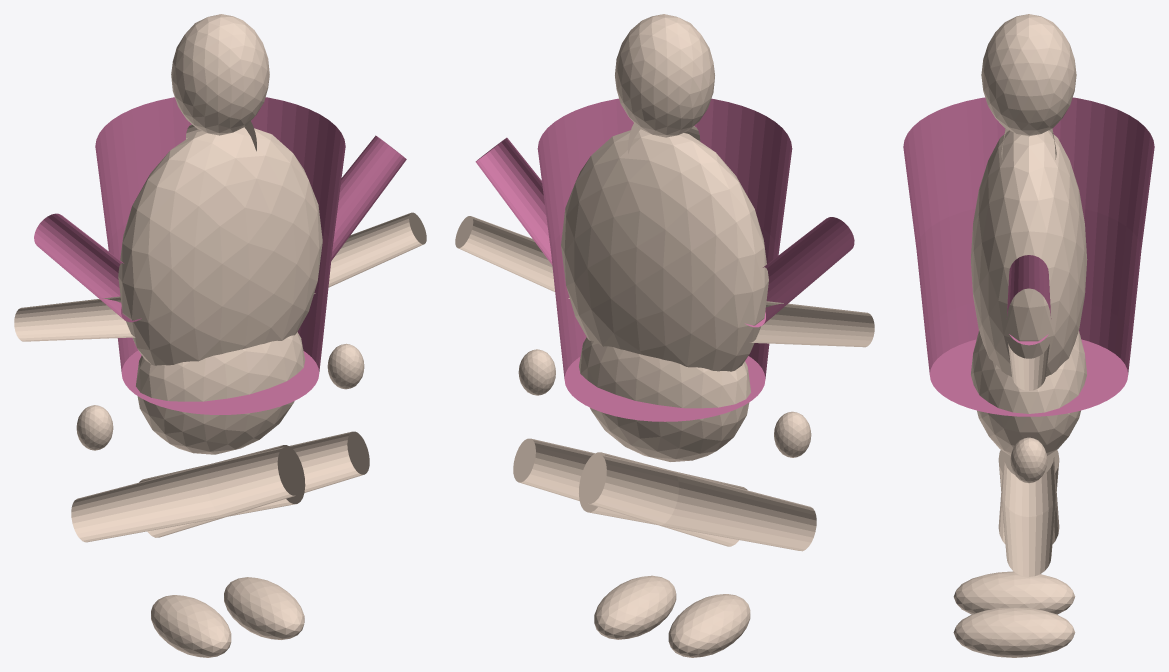
File: masculino-polo.glb
3 views of the same model, side by side, from view 1: azimuth 30°, elevation 25°; view 2: azimuth 150°, elevation 25°; view 3: azimuth 270°, elevation 25° (orthographic).
Visible parts, largest first — view 1: Avatar0, Prenda, Avatar1, Avatar3, Avatar4, Avatar8, Avatar6, Avatar9, Avatar5, Avatar10, Avatar7, Avatar11; view 2: Avatar0, Prenda, Avatar1, Avatar3, Avatar4, Avatar8, Avatar6, Avatar5, Avatar9, Avatar10, Avatar7, Avatar11; view 3: Prenda, Avatar0, Avatar3, Avatar1, Avatar9, Avatar5, Avatar8, Avatar4, Avatar11, Avatar10.
Boxes of the visible parts, bbox=[...] form: Avatar0: bbox=[118, 127, 322, 365]; Prenda: bbox=[34, 97, 406, 414]; Avatar1: bbox=[136, 332, 305, 454]; Avatar3: bbox=[171, 14, 269, 135]; Avatar4: bbox=[71, 445, 305, 542]; Avatar8: bbox=[139, 431, 369, 537]; Avatar6: bbox=[14, 296, 135, 341]; Avatar9: bbox=[224, 577, 304, 639]; Avatar5: bbox=[151, 595, 231, 657]; Avatar10: bbox=[314, 212, 426, 293]; Avatar7: bbox=[76, 405, 113, 450]; Avatar11: bbox=[327, 343, 364, 389]; Avatar0: bbox=[561, 129, 768, 371]; Prenda: bbox=[475, 98, 854, 421]; Avatar1: bbox=[579, 337, 750, 461]; Avatar3: bbox=[615, 14, 714, 137]; Avatar4: bbox=[579, 452, 816, 551]; Avatar8: bbox=[513, 438, 747, 546]; Avatar6: bbox=[750, 301, 874, 347]; Avatar5: bbox=[668, 594, 750, 657]; Avatar9: bbox=[594, 575, 676, 639]; Avatar10: bbox=[455, 216, 569, 298]; Avatar7: bbox=[774, 411, 811, 457]; Avatar11: bbox=[518, 349, 555, 395]; Prenda: bbox=[903, 97, 1154, 416]; Avatar0: bbox=[970, 130, 1087, 376]; Avatar3: bbox=[981, 14, 1076, 136]; Avatar1: bbox=[971, 331, 1086, 455]; Avatar9: bbox=[953, 607, 1075, 657]; Avatar5: bbox=[953, 571, 1075, 614]; Avatar8: bbox=[998, 450, 1059, 576]; Avatar4: bbox=[998, 457, 1059, 544]; Avatar11: bbox=[1010, 437, 1047, 483]; Avatar10: bbox=[1008, 343, 1049, 390].
Size of the model in its own units: 1.75 by 2.58 by 0.95.
